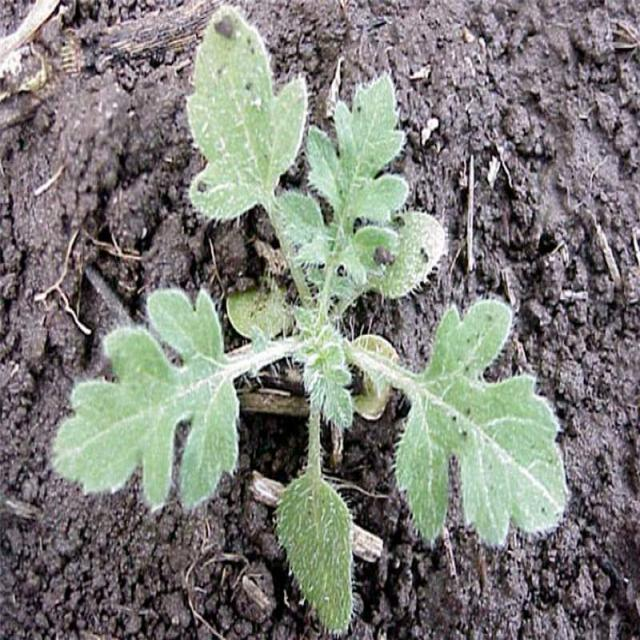Poisonous-Parthenium: (30, 345, 542, 552), (185, 11, 478, 351)
